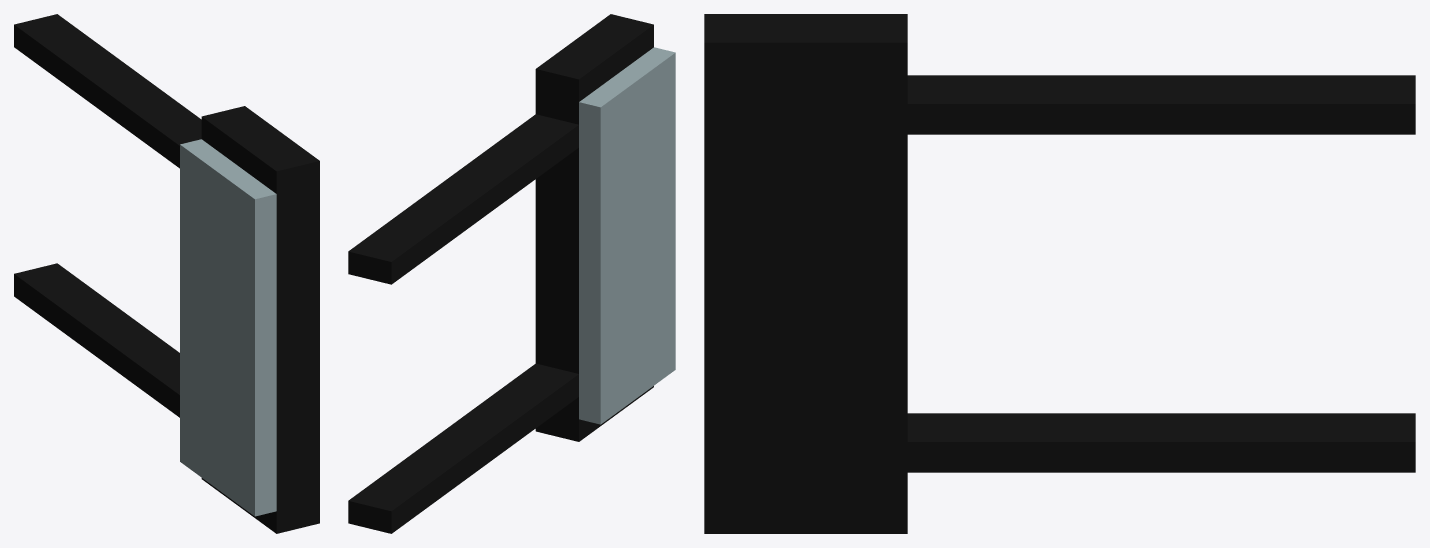
The model's file is door_mirror_box.glb.
3 renders of one model, left to right at view 1: azimuth 30°, elevation 25°; view 2: azimuth 150°, elevation 25°; view 3: azimuth 270°, elevation 25°, orthographic. The views are drawn at different scales.
Parts seen in each view (by area): view 1: body:compound; view 2: body:compound; view 3: body:compound.
Boxes of the visible parts, x1,y1,x2,y2 form: body:compound: (14,14,319,533); body:compound: (348,14,675,533); body:compound: (704,14,1415,533).
Size of the model in its own units: 0.0938 by 0.5 by 0.6562.
